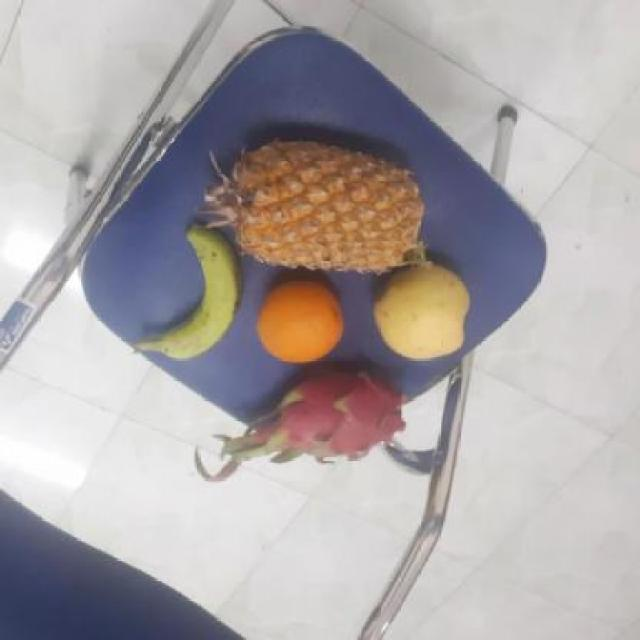banana: (153, 222, 242, 366)
dragon fruit: (258, 365, 404, 460)
oren: (251, 273, 349, 364)
pear: (370, 263, 475, 362)
pineapple: (220, 138, 414, 270)
